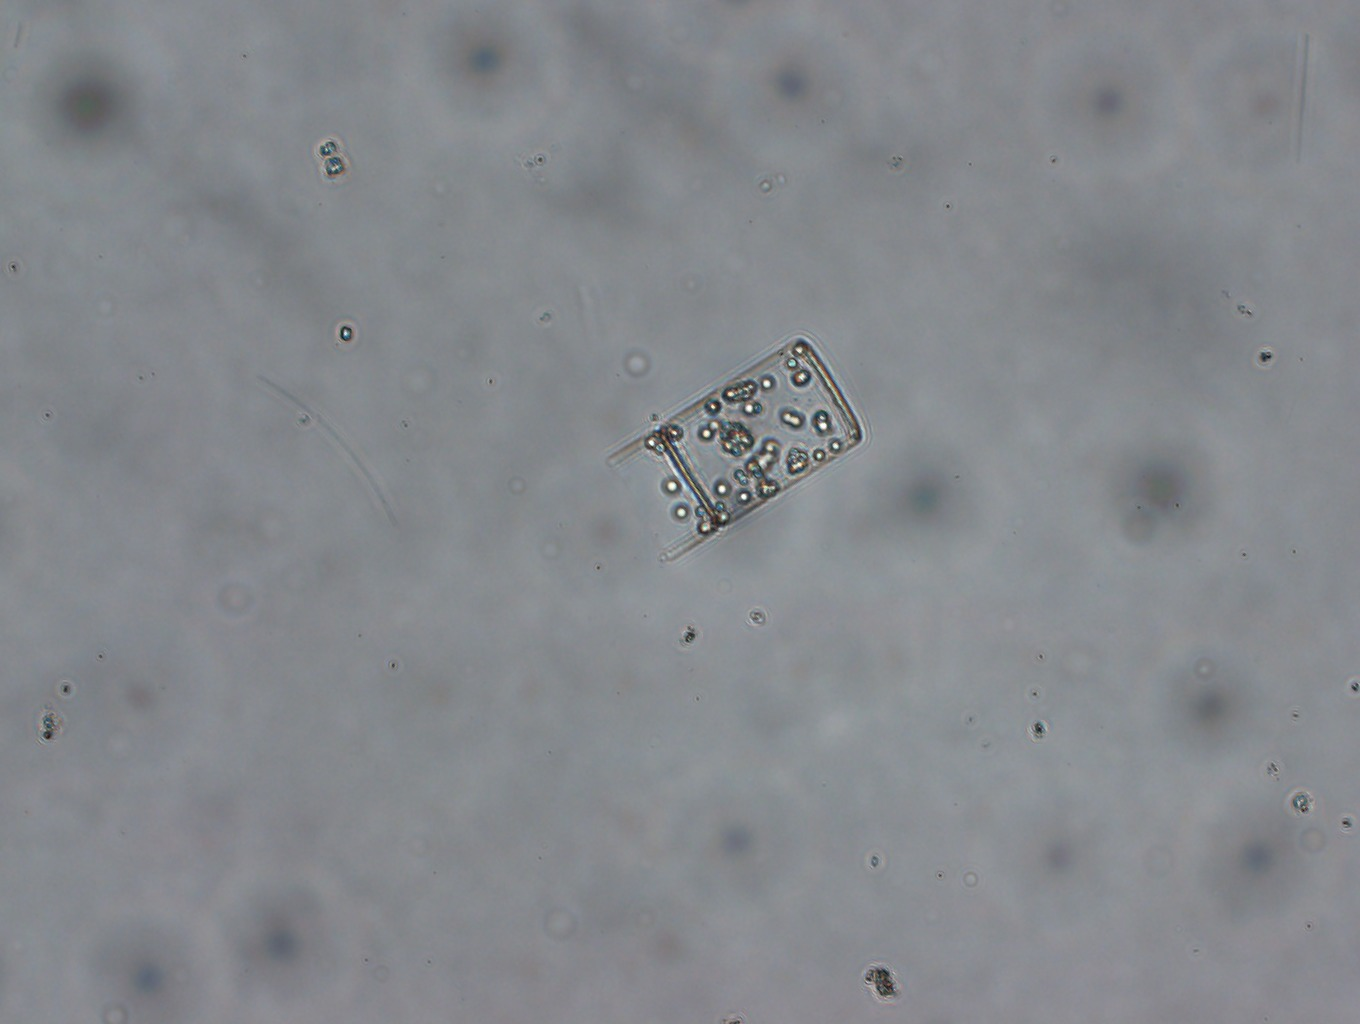guinardia flaccida: (605, 336, 867, 561)
